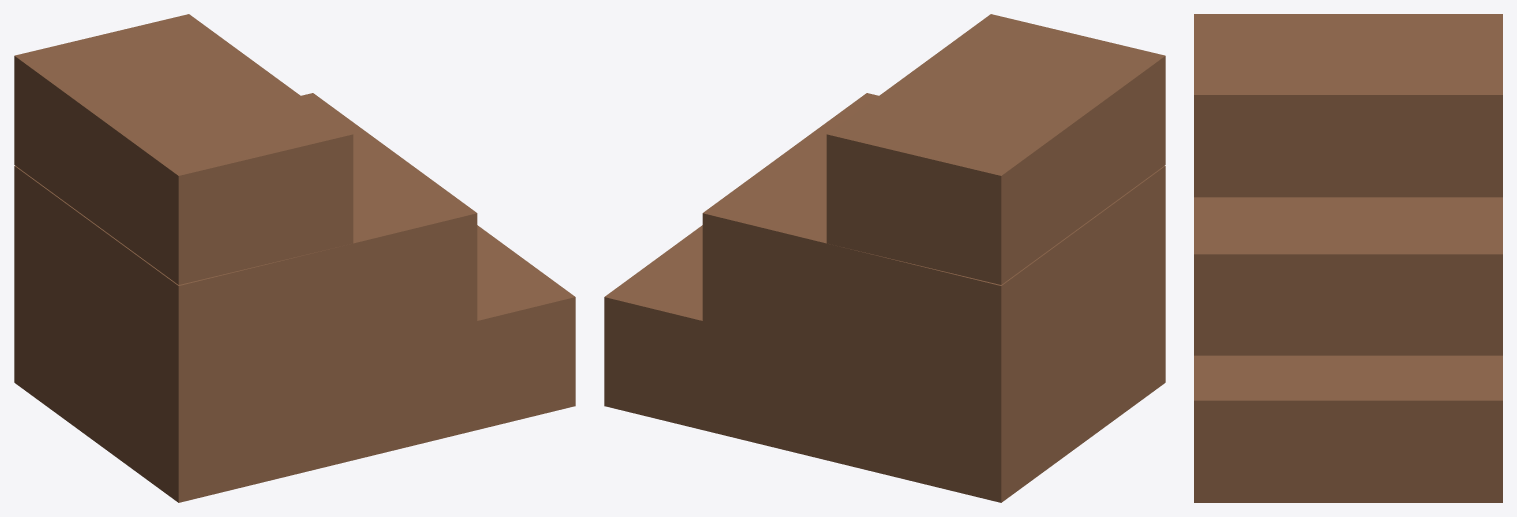
File: stairs.glb
3 views of the same model, side by side, from view 1: azimuth 30°, elevation 25°; view 2: azimuth 150°, elevation 25°; view 3: azimuth 270°, elevation 25° (orthographic). The views are drawn at different scales.
Parts seen in each view (by area): view 1: Cube; view 2: Cube; view 3: Cube.
Boxes of the visible parts, left/top/right/bottom form: Cube: left=14, top=14, right=575, bottom=502; Cube: left=604, top=14, right=1165, bottom=502; Cube: left=1194, top=14, right=1502, bottom=502.
Bounding box in the file's own units: 7.62 × 5.99 × 5.46.
